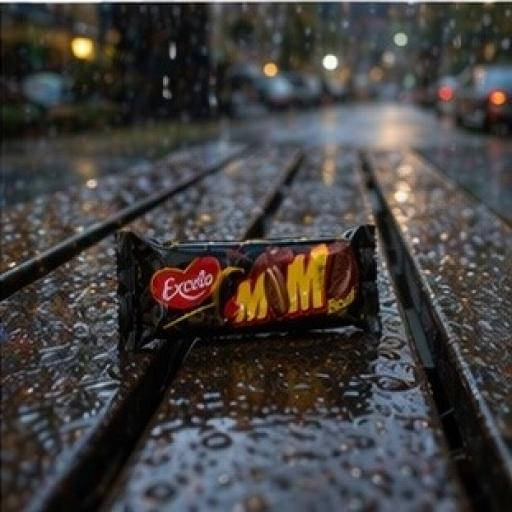MOMO: (65, 188, 433, 394)
